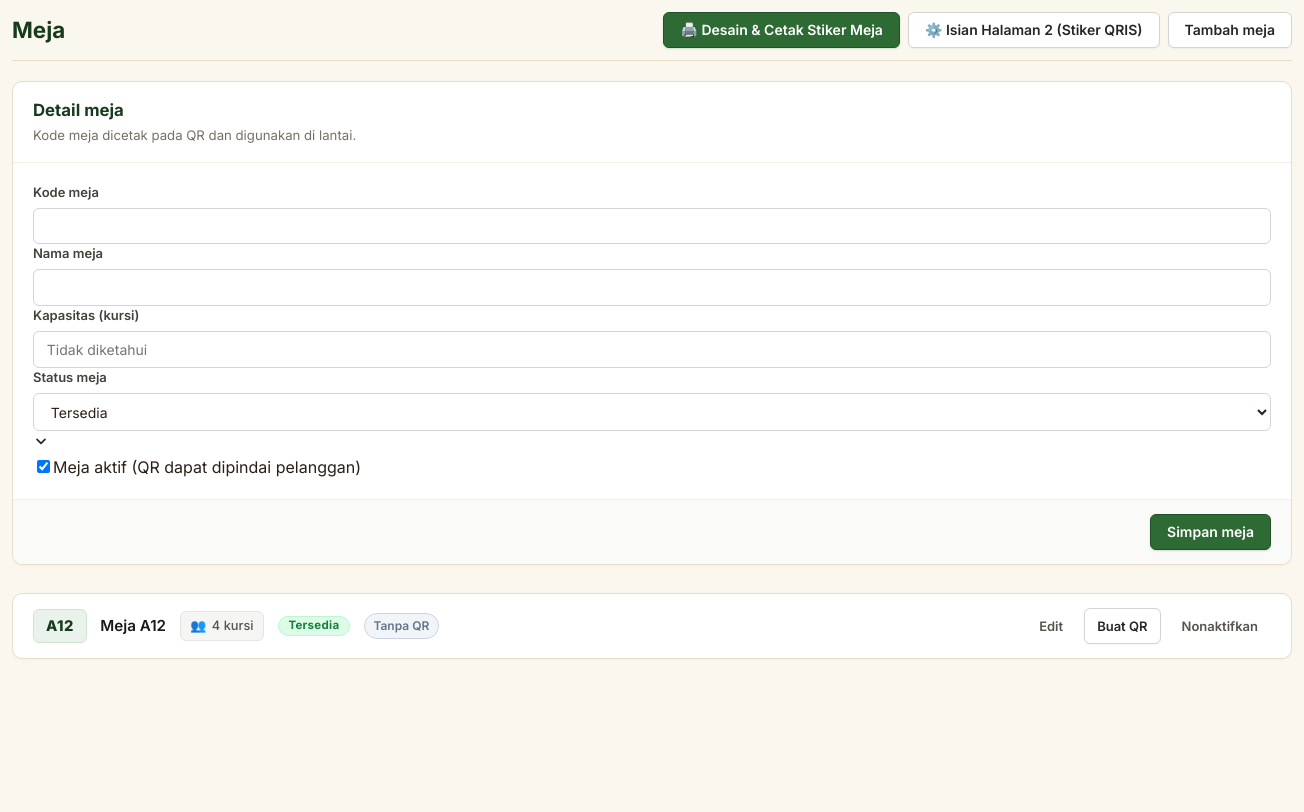
it: TablesPage › reports a denied QR mint instead of failing silently
Expected: the text "Tanpa QR" is shown, [364, 613, 439, 639]
Step 1. Click the button "Buat QR" → (1122, 626), box [1084, 608, 1160, 644]
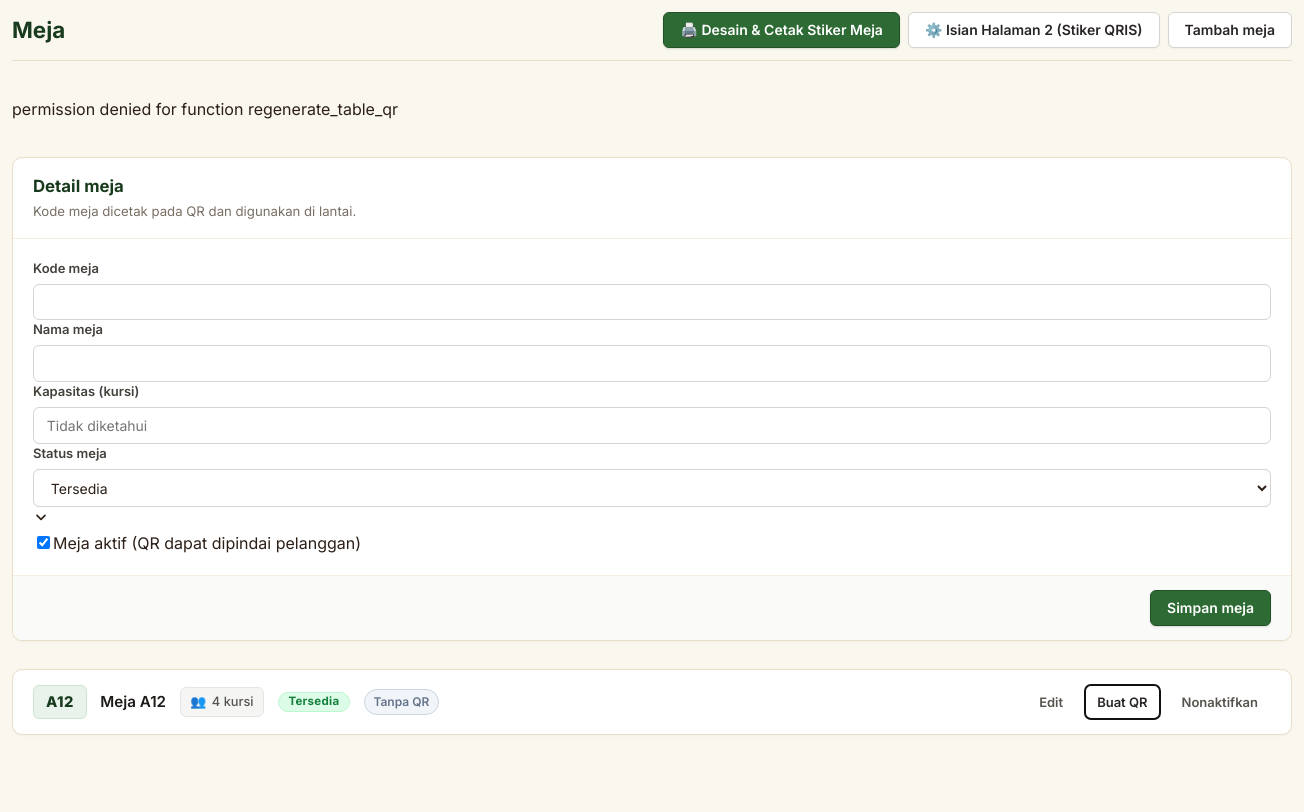
Result: the text "permission denied for function regenerate_table_qr" is shown at [12, 98, 398, 118]
